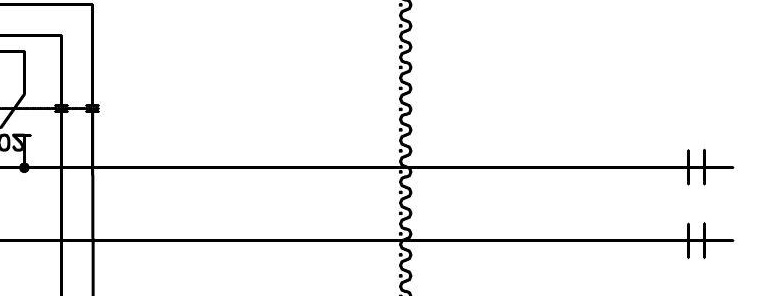115_buffer: (687, 222, 706, 259), (687, 149, 706, 186)
